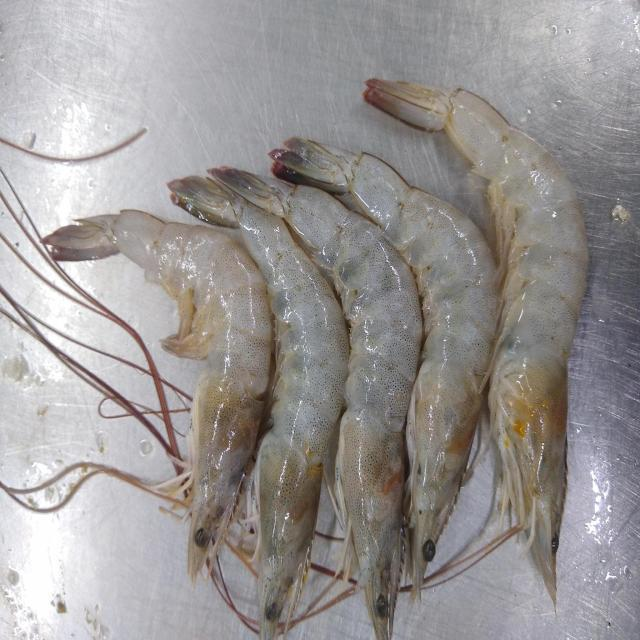shrimp: (364, 80, 589, 602), (212, 168, 422, 640), (350, 153, 500, 597), (110, 210, 271, 582), (229, 192, 349, 640)
